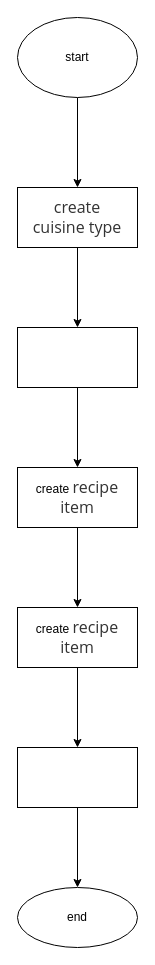
This 155x965 diagram has some shape labels left out. The box of each missing label's shape, as (x1, y1, x2, y2) in pixels:
create menu item: (16, 746, 138, 808)
create restaurant: (16, 326, 138, 388)
